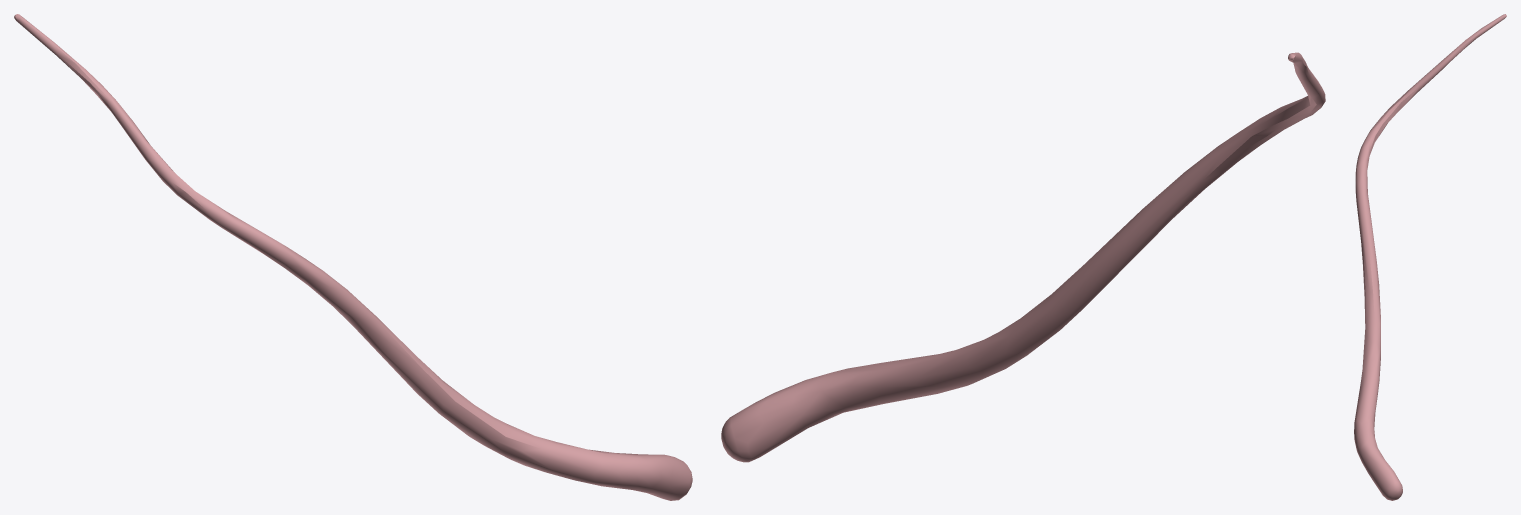
The model's file is fma71867_fj3071.glb.
The picture shows the model from 3 angles, left to right: view 1: azimuth 30°, elevation 25°; view 2: azimuth 150°, elevation 25°; view 3: azimuth 270°, elevation 25°; orthographic projection. The views are drawn at different scales.
Parts seen in each view (by area): view 1: FMA71867_FJ3071; view 2: FMA71867_FJ3071; view 3: FMA71867_FJ3071.
Part boxes in pixels (box(x1,y1,x2,y2)): FMA71867_FJ3071: box(14, 14, 692, 500); FMA71867_FJ3071: box(721, 52, 1325, 462); FMA71867_FJ3071: box(1354, 14, 1506, 500).
Bounding box in the file's own units: 0.0522 × 0.0474 × 0.0202.
